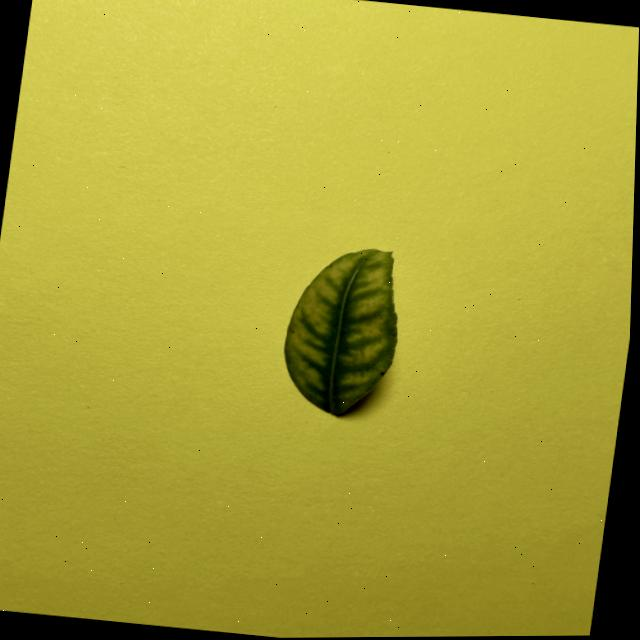greening: (284, 249, 397, 415)
